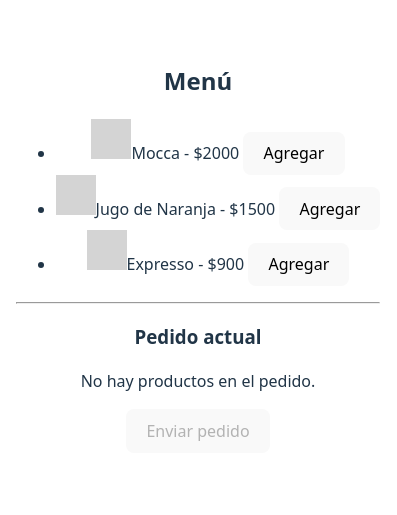
Test: Componente Menu › HU4 - Quita una unidad del pedido sin borrar todo
The width and height of the screenshot is (397, 515).
# Agregar productos
Click the button "Agregar" in the row of "Mocca": x=294, y=153 x1=243 y1=132 x2=345 y2=175
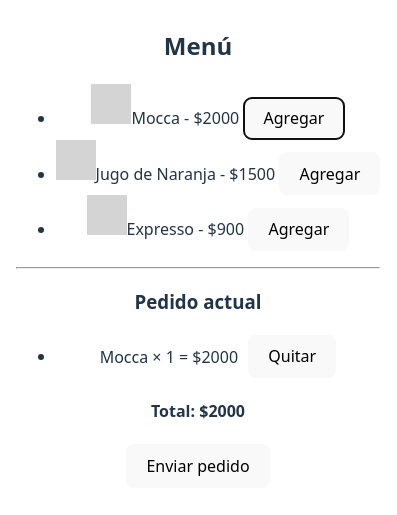
Click the button "Agregar" in the row of "Jugo de Naranja": x=330, y=174 x1=279 y1=152 x2=380 y2=196
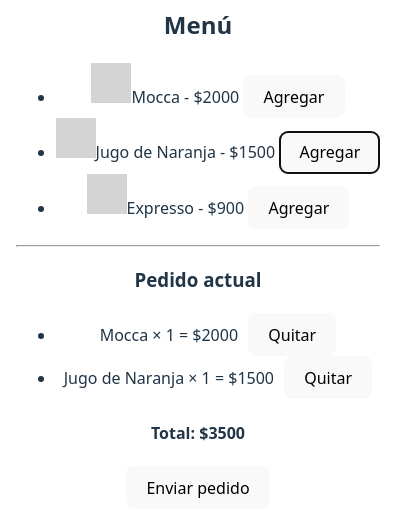
Click the 1st button "Agregar": x=294, y=97 x1=243 y1=75 x2=345 y2=118
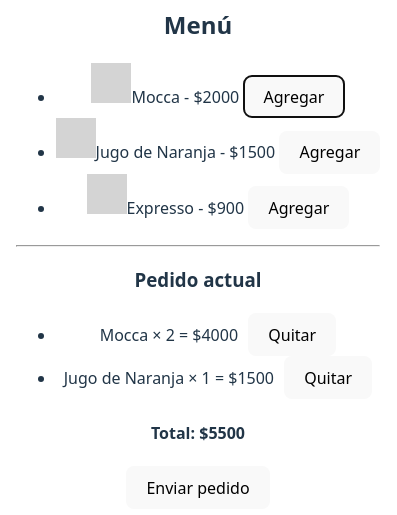
Now the number of buttons "Quitar" is 2
Now the heading "Total: $5500" is shown, box x1=151 y1=422 x2=245 y2=444
# Quitar una unidad del primer producto (Mocca)
Click the button "Quitar" next to "4000": x=292, y=335 x1=248 y1=313 x2=336 y2=356
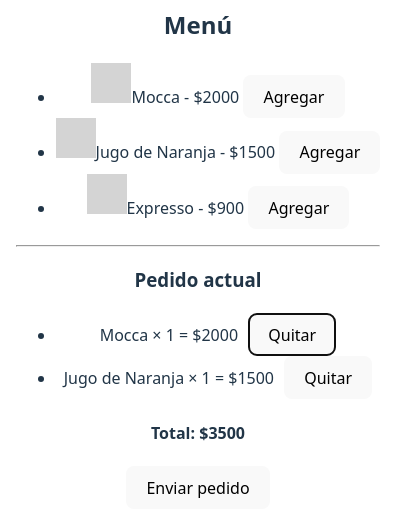
Now the number of buttons "Quitar" is 2, box x1=248 y1=313 x2=336 y2=356; x1=284 y1=356 x2=372 y2=399
Now the heading "Total: $3500" is shown, box x1=151 y1=422 x2=245 y2=444
